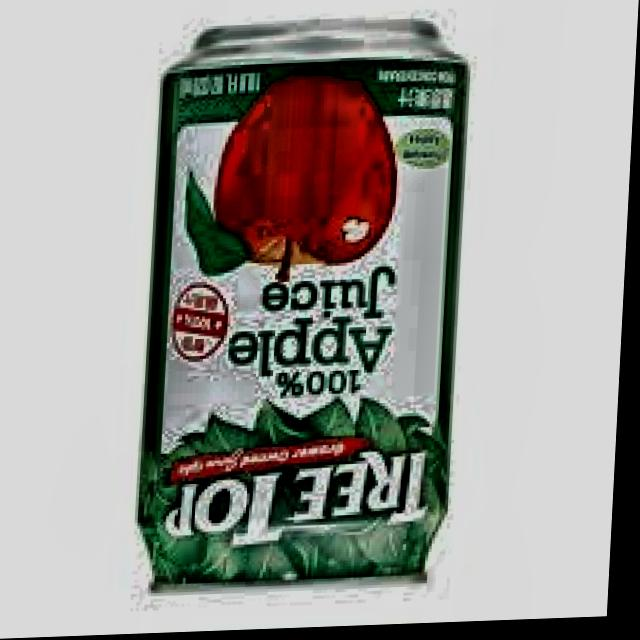can: (128, 4, 487, 606)
